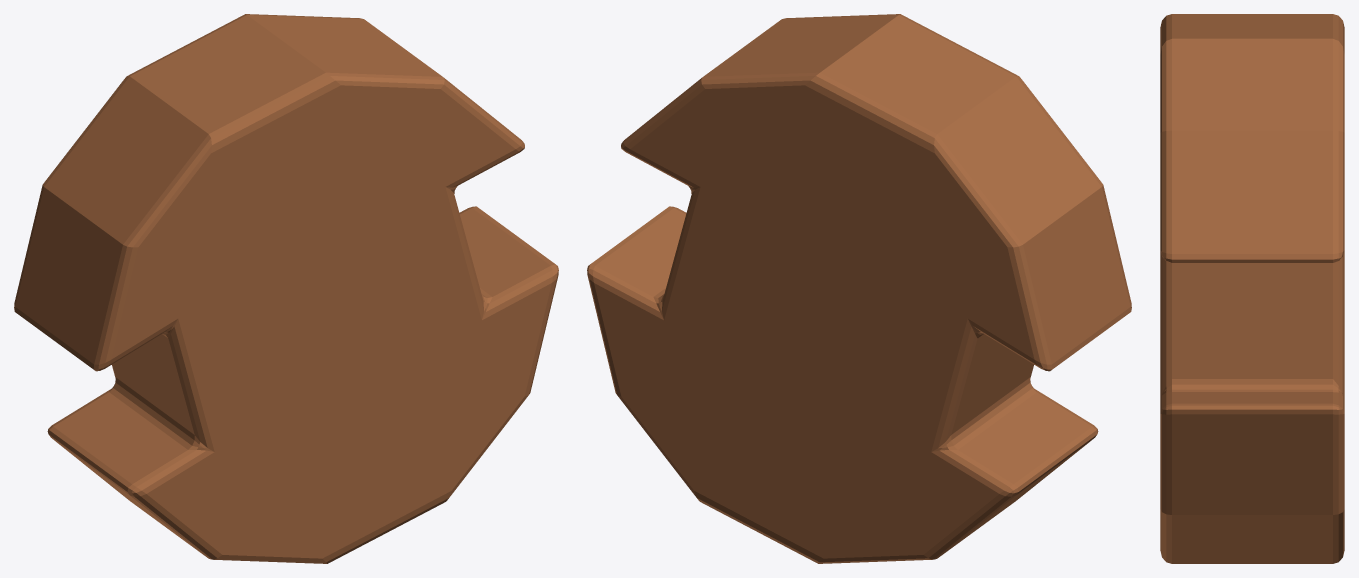
Rendered from tronco_mesh.fbx.
The picture shows the model from 3 angles, left to right: view 1: azimuth 30°, elevation 25°; view 2: azimuth 150°, elevation 25°; view 3: azimuth 270°, elevation 25°; orthographic projection. The views are drawn at different scales.
Parts seen in each view (by area): view 1: Cylinder; view 2: Cylinder; view 3: Cylinder.
Boxes of the visible parts, x1,y1,x2,y2 form: Cylinder: (14, 14, 558, 563); Cylinder: (587, 14, 1131, 563); Cylinder: (1160, 14, 1344, 563).
Size of the model in its own units: 1189 by 1200 by 400.
